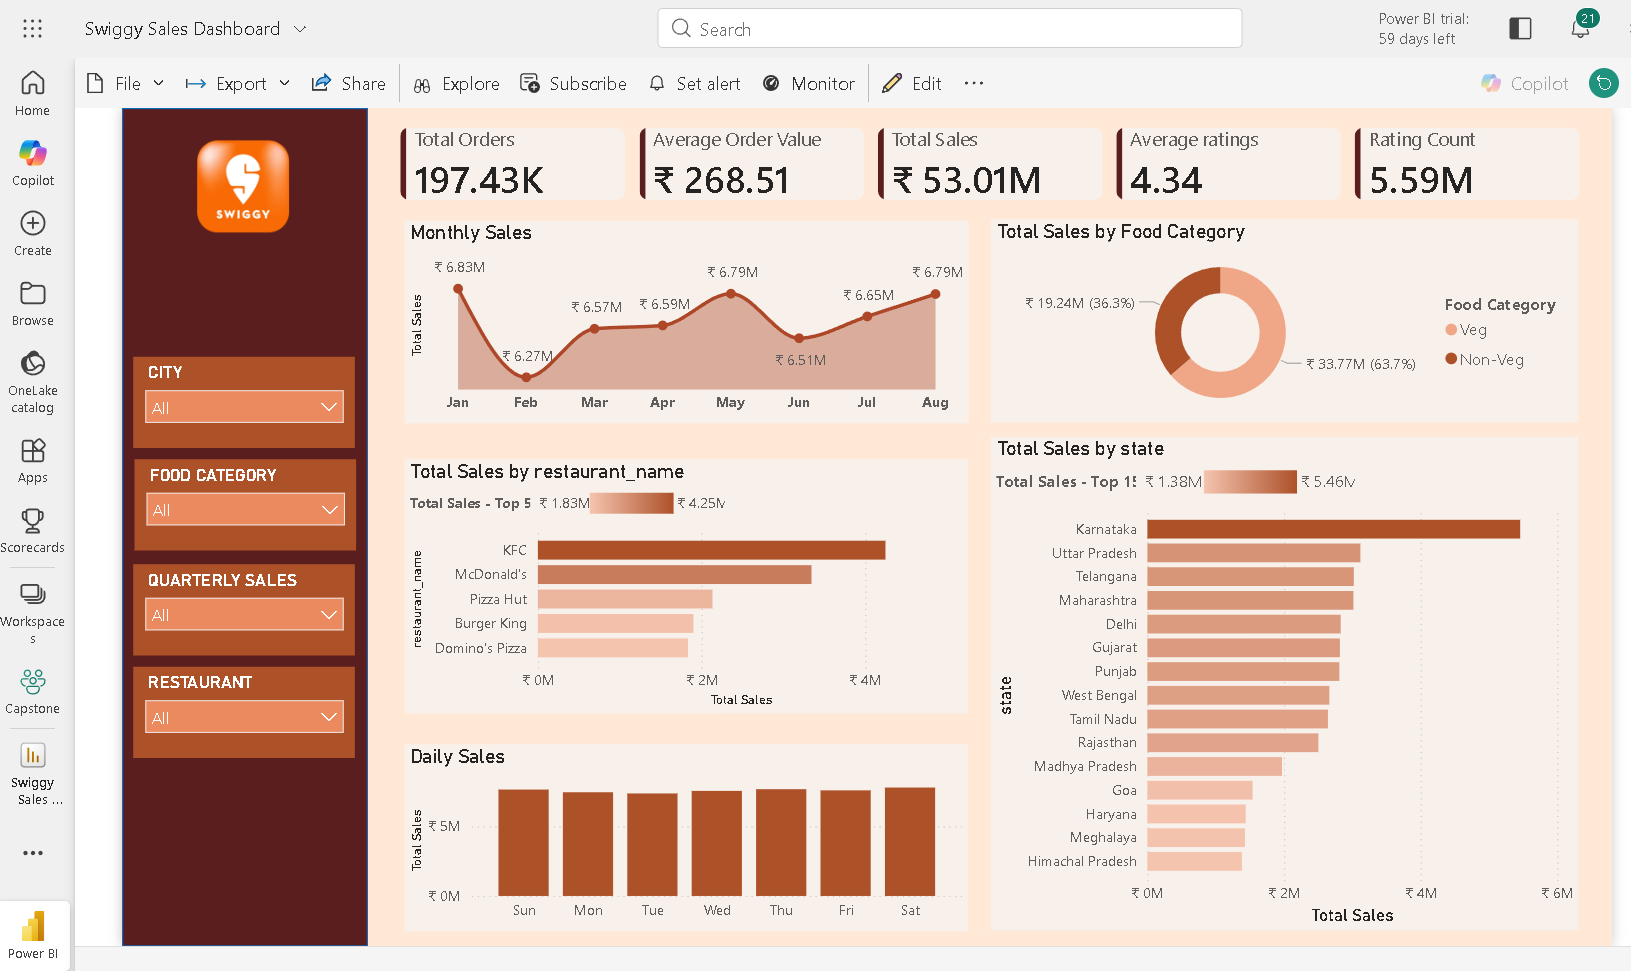

Layout of this report page (visuals, bound fields, positions):
{"tool":"powerbi","page":{"name":"Page 1","canvas":[1280,720],"ordinal":0},"visuals":[{"type":"shape","box":[0,0,211.3,720.4],"z":0},{"type":"cardVisual","fields":{"Data":["dim_date.Total Orders","fact_orders.Average Order Value","dim_date.Total Sales","Avg(fact_orders.rating)","Sum(fact_orders.rating_count)"]},"box":[222.1,0,1050,96.5],"z":1000},{"type":"image","box":[0,19.2,208.6,96.1],"z":2000},{"type":"areaChart","title":"Monthly Sales","fields":{"Category":["dim_date.Month"],"Y":["dim_date.Total Sales"]},"box":[243,96.5,484.9,174.4],"z":3000},{"type":"donutChart","fields":{"Category":["dim_dish.Food Type"],"Y":["dim_date.Total Sales"]},"box":[746.5,96.1,505,174.3],"z":4000},{"type":"columnChart","title":"Daily Sales","fields":{"Category":["dim_date.Day"],"Y":["dim_date.Total Sales"]},"box":[242.9,546.1,484.4,160.5],"z":5000},{"type":"barChart","fields":{"Category":["dim_restaurant.restaurant_name"],"Y":["dim_date.Total Sales"]},"box":[242.9,301.9,484.4,218.2],"z":6000},{"type":"barChart","fields":{"Y":["dim_date.Total Sales"],"Category":["dim_location.state"]},"box":[746.5,282.7,505,424],"z":7000},{"type":"slicer","fields":{"Values":["dim_location.city"]},"box":[9.6,214.1,190.7,78.2],"z":8000},{"type":"slicer","fields":{"Values":["dim_dish.Food Type"]},"box":[11,301.9,190.7,78.2],"z":8001},{"type":"slicer","fields":{"Values":["dim_date.Quarter","dim_date.Quarter"]},"box":[9.6,392.5,190.7,78.2],"z":8002},{"type":"slicer","fields":{"Values":["dim_restaurant.restaurant_name"]},"box":[9.6,480.3,190.7,78.2],"z":8003}]}

Visuals, with their boxes on the page's 1280x720 design canvas (x1, y1, x2, y2). These are canvas units, not pixel positions in the 1631x971 screenshot, which may show the page scaled, cropped or inside an application window:
shape: box=[0, 0, 211, 720]
cardVisual - dim_date.Total Orders x fact_orders.Average Order Value: box=[222, 0, 1272, 96]
image: box=[0, 19, 209, 115]
"Monthly Sales" areaChart: box=[243, 96, 728, 271]
donutChart - dim_dish.Food Type x dim_date.Total Sales: box=[746, 96, 1252, 270]
"Daily Sales" columnChart: box=[243, 546, 727, 707]
barChart - dim_restaurant.restaurant_name x dim_date.Total Sales: box=[243, 302, 727, 520]
barChart - dim_date.Total Sales x dim_location.state: box=[746, 283, 1252, 707]
slicer - dim_location.city: box=[10, 214, 200, 292]
slicer - dim_dish.Food Type: box=[11, 302, 202, 380]
slicer - dim_date.Quarter x dim_date.Quarter: box=[10, 392, 200, 471]
slicer - dim_restaurant.restaurant_name: box=[10, 480, 200, 558]
